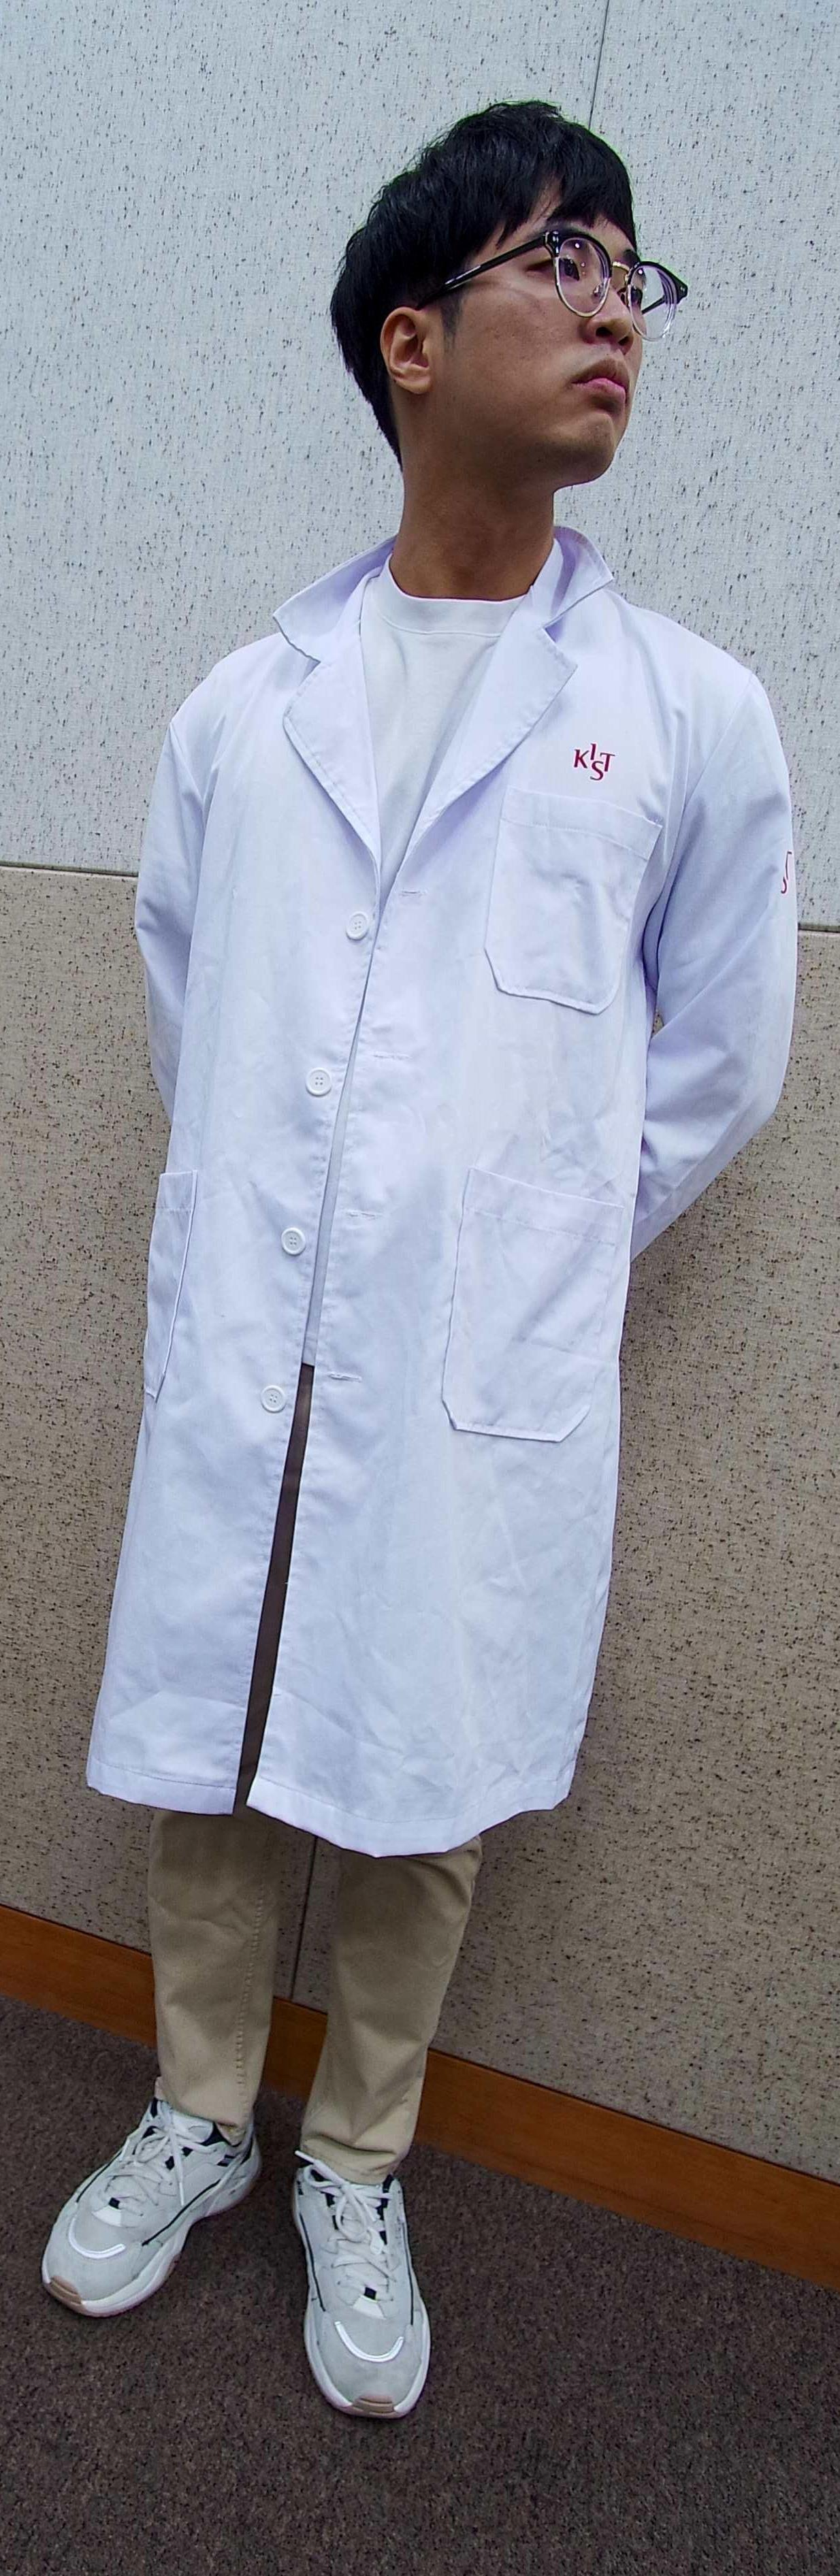lab_coat: (97, 608, 669, 1792)
